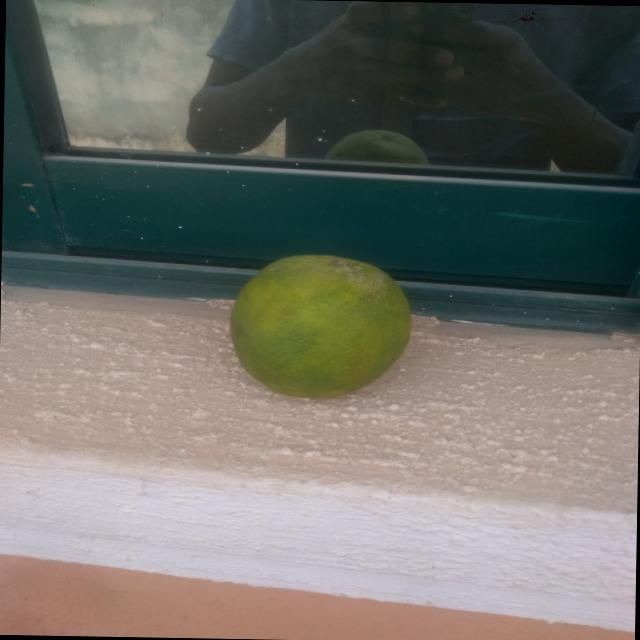agrume: (214, 211, 466, 424)
